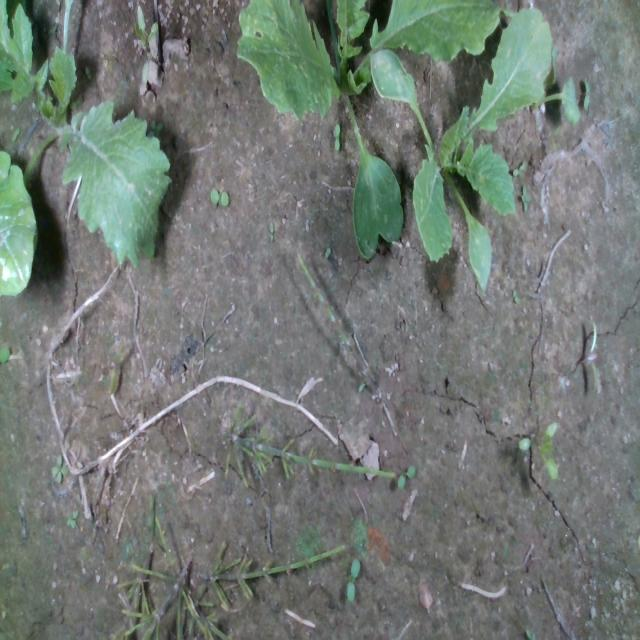weed: (107, 339, 126, 396), (588, 318, 598, 396), (346, 556, 360, 602), (396, 463, 416, 490), (51, 452, 67, 482), (208, 187, 230, 206), (520, 182, 530, 212), (512, 158, 526, 179), (582, 78, 590, 113), (516, 434, 532, 451), (332, 121, 340, 151), (66, 508, 78, 528), (268, 220, 274, 243), (324, 245, 332, 259)
